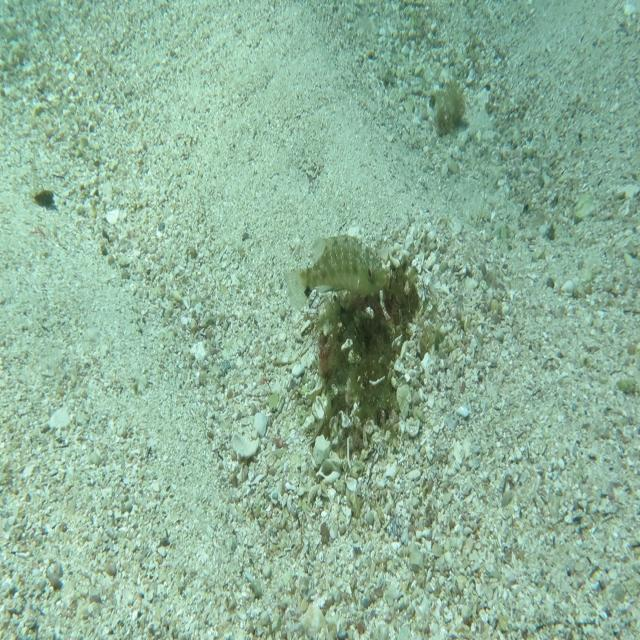MAN: (273, 234, 390, 318)
core_nest: (372, 273, 417, 315)
nest: (309, 246, 439, 455)
vegetation: (434, 74, 466, 137), (34, 186, 55, 212)
